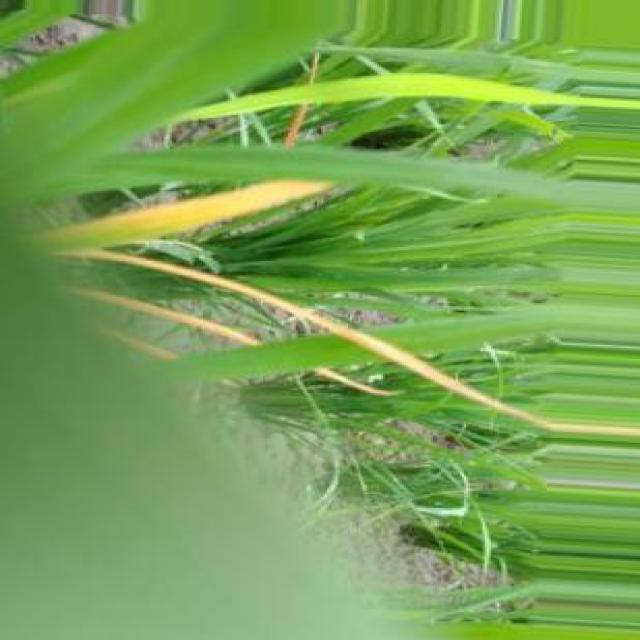Rice Tungro: (68, 249, 638, 436), (43, 180, 332, 248), (75, 291, 262, 346), (313, 368, 396, 396), (115, 334, 175, 359)
